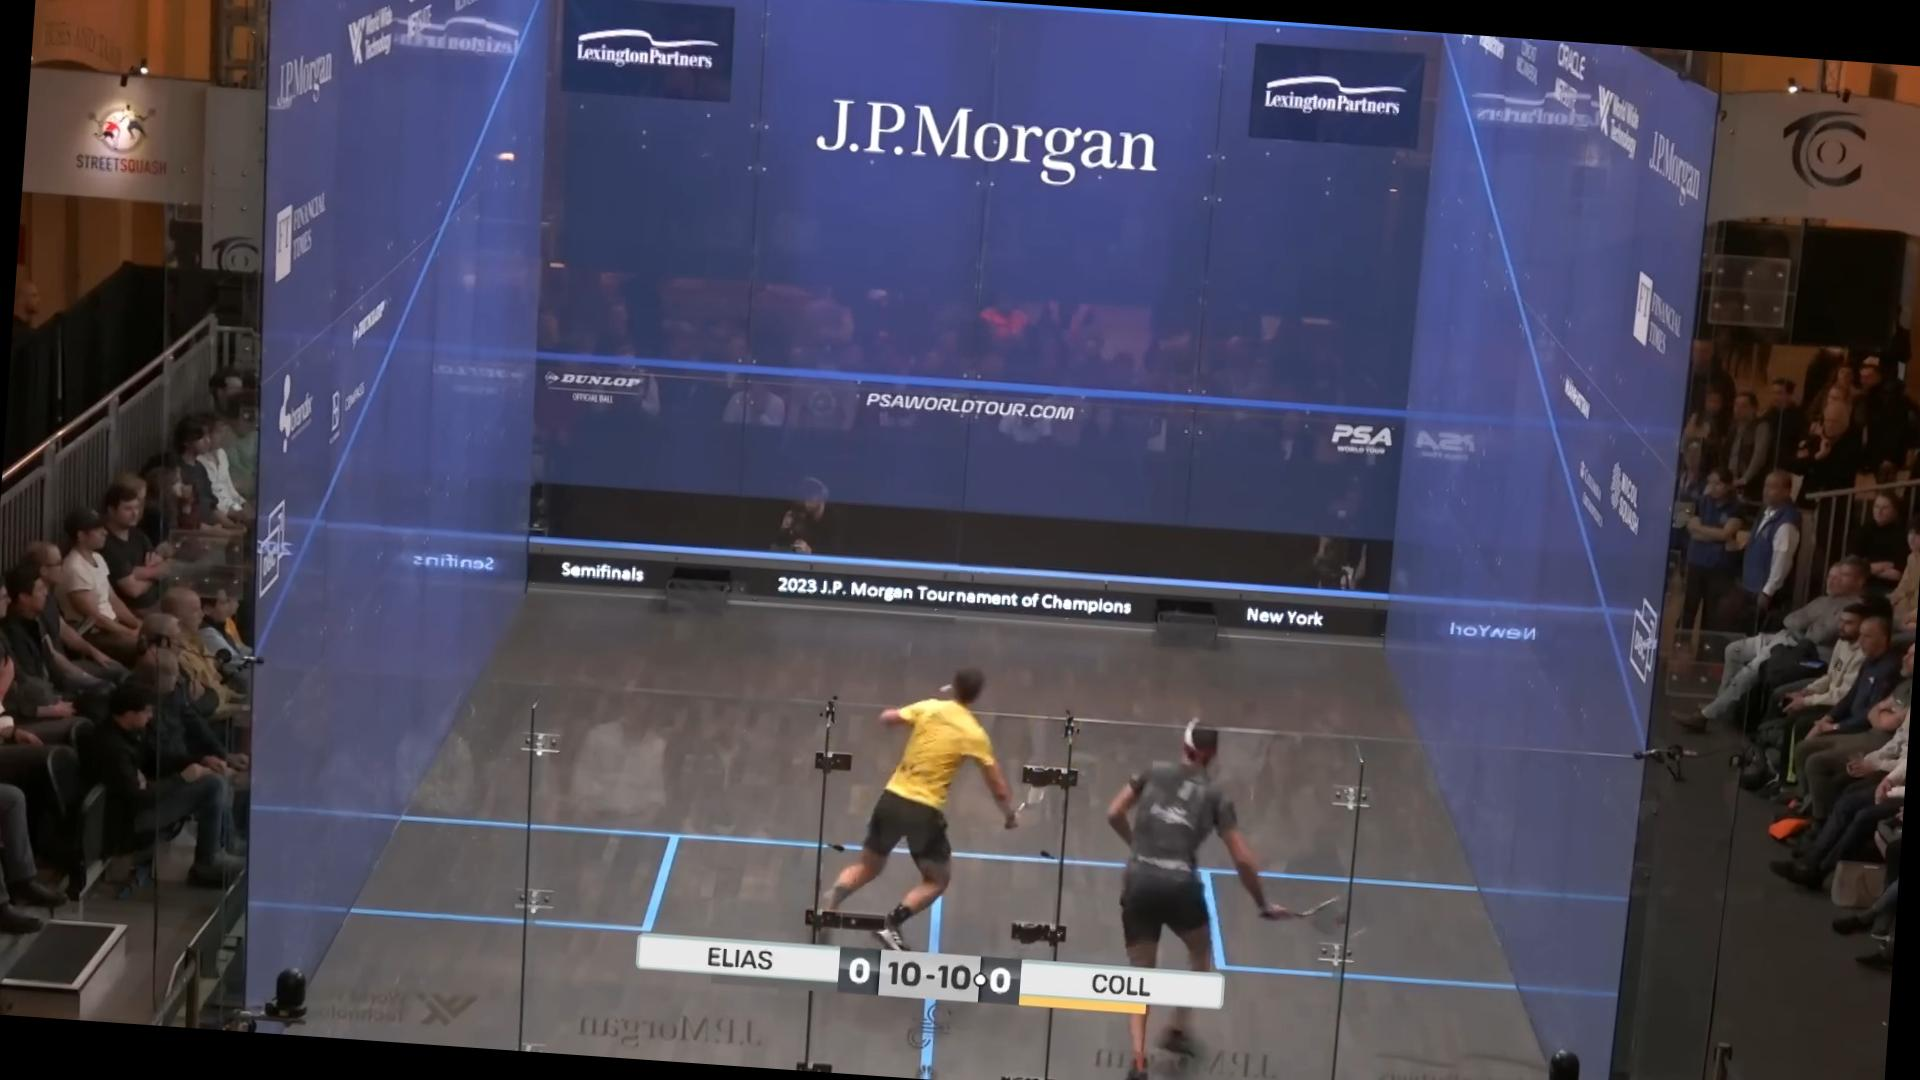Racket: (1273, 877, 1385, 949), (1007, 761, 1077, 836)
